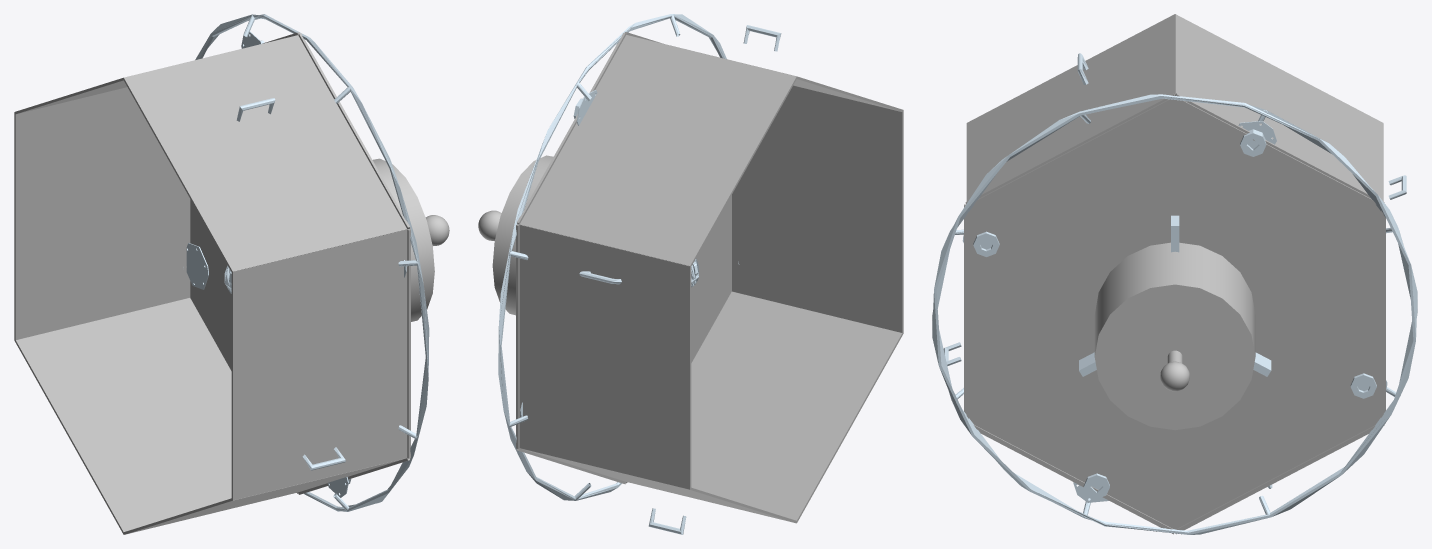
Rendered from deosClientMockupRaw.obj.
The picture shows the model from 3 angles, left to right: view 1: azimuth 30°, elevation 25°; view 2: azimuth 150°, elevation 25°; view 3: azimuth 270°, elevation 25°; orthographic projection. The views are drawn at different scales.
Parts seen in each view (by area): view 1: CoordinateSystem_MatrixTransform_onePlate_MatrixTransform__Geome, CoordinateSystem_onePlate_MatrixTransform__Geometry_0, CoordinateSystem_MatrixTransform_MatrixTransform__Geometry_0, CoordinateSystem_Group_MatrixTransform__Geometry_0, CoordinateSystem_onePlate_MatrixTransform__Geometry_1, CoordinateSystem_Group_MatrixTransform__Geometry_2; view 2: CoordinateSystem_MatrixTransform_onePlate_MatrixTransform__Geome, CoordinateSystem_onePlate_MatrixTransform__Geometry_0, CoordinateSystem_MatrixTransform_MatrixTransform__Geometry_0, CoordinateSystem_onePlate_MatrixTransform__Geometry_1, CoordinateSystem_Group_MatrixTransform__Geometry_0, CoordinateSystem_Group_MatrixTransform__Geometry_2; view 3: CoordinateSystem_MatrixTransform_onePlate_MatrixTransform__Geome, CoordinateSystem_onePlate_MatrixTransform__Geometry_1, CoordinateSystem_Group_MatrixTransform__Geometry_0, CoordinateSystem_MatrixTransform_MatrixTransform__Geometry_0, CoordinateSystem_Group_MatrixTransform__Geometry_2, CoordinateSystem_onePlate_MatrixTransform__Geometry_0.
Boxes of the visible parts, <box> form: CoordinateSystem_MatrixTransform_onePlate_MatrixTransform__Geome: <box>14,32,410,534</box>; CoordinateSystem_onePlate_MatrixTransform__Geometry_0: <box>231,228,410,500</box>; CoordinateSystem_MatrixTransform_MatrixTransform__Geometry_0: <box>183,14,429,511</box>; CoordinateSystem_Group_MatrixTransform__Geometry_0: <box>372,158,434,321</box>; CoordinateSystem_onePlate_MatrixTransform__Geometry_1: <box>407,229,410,458</box>; CoordinateSystem_Group_MatrixTransform__Geometry_2: <box>425,215,449,245</box>; CoordinateSystem_MatrixTransform_onePlate_MatrixTransform__Geome: <box>516,32,903,523</box>; CoordinateSystem_onePlate_MatrixTransform__Geometry_0: <box>732,85,903,333</box>; CoordinateSystem_MatrixTransform_MatrixTransform__Geometry_0: <box>498,14,781,534</box>; CoordinateSystem_onePlate_MatrixTransform__Geometry_1: <box>691,195,731,321</box>; CoordinateSystem_Group_MatrixTransform__Geometry_0: <box>492,155,553,315</box>; CoordinateSystem_Group_MatrixTransform__Geometry_2: <box>478,210,501,240</box>; CoordinateSystem_MatrixTransform_onePlate_MatrixTransform__Geome: <box>965,14,1385,534</box>; CoordinateSystem_onePlate_MatrixTransform__Geometry_1: <box>964,204,1172,423</box>; CoordinateSystem_Group_MatrixTransform__Geometry_0: <box>1094,242,1255,430</box>; CoordinateSystem_MatrixTransform_MatrixTransform__Geometry_0: <box>932,53,1417,534</box>; CoordinateSystem_Group_MatrixTransform__Geometry_2: <box>1160,361,1189,391</box>; CoordinateSystem_onePlate_MatrixTransform__Geometry_0: <box>966,212,968,418</box>.
Bounding box in the file's own units: 0.71 × 0.9668 × 0.9663.
